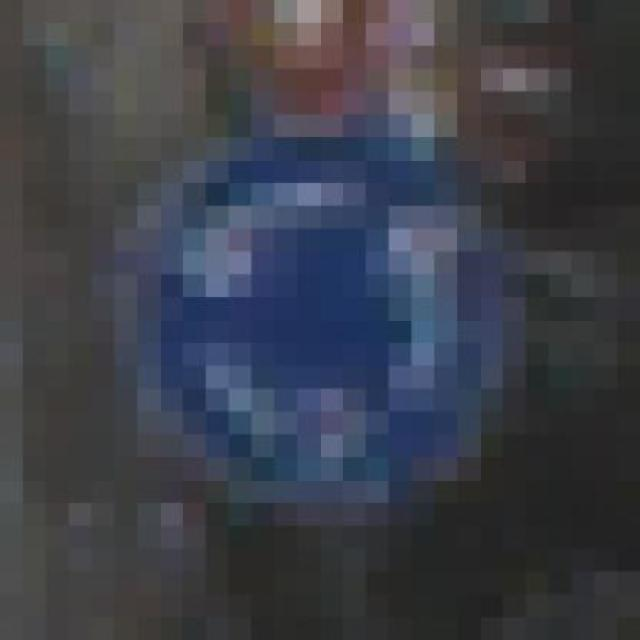Round-About: (46, 69, 572, 548)
